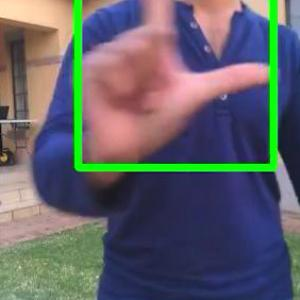land_hand: (68, 0, 282, 163)
